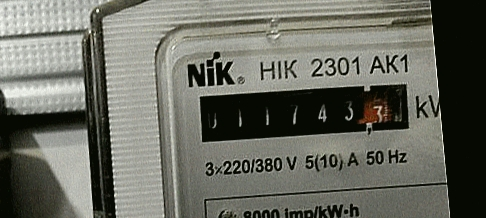0: (202, 102, 218, 130)
1: (229, 100, 245, 129), (257, 98, 272, 127)
3: (338, 95, 354, 123), (367, 102, 384, 124)
4: (312, 98, 328, 124)
7: (284, 99, 300, 125)
screen: (187, 70, 418, 155)
